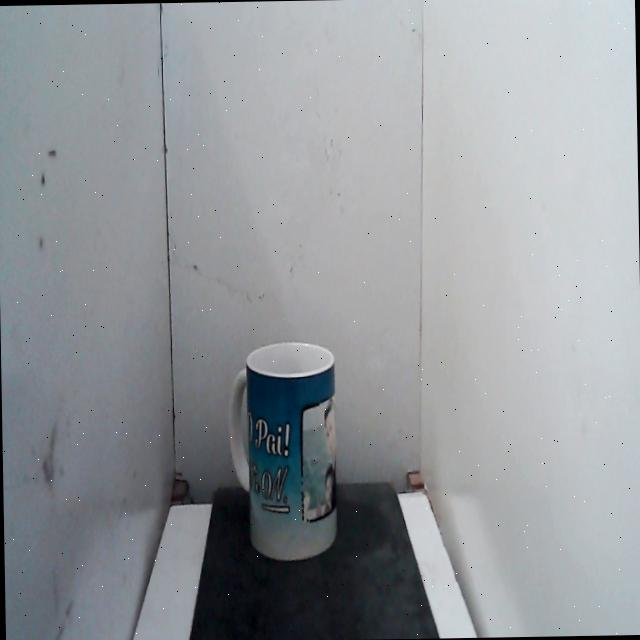vidro: (222, 334, 354, 576)
